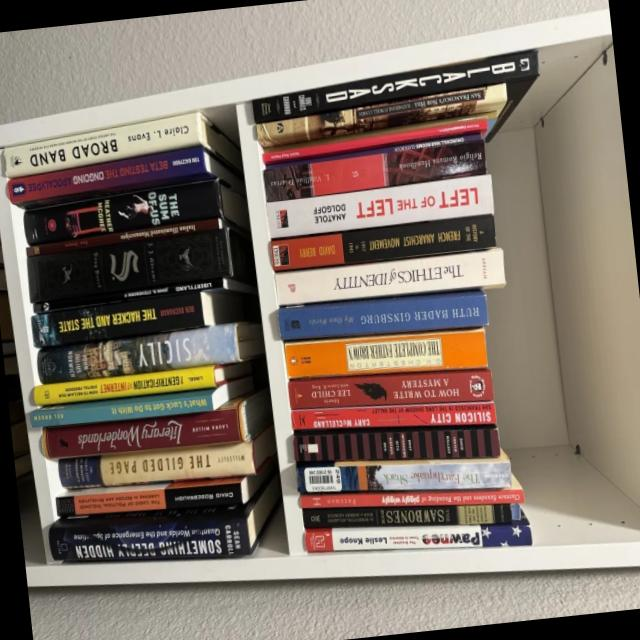book: (250, 49, 543, 157), (253, 84, 508, 147), (262, 136, 488, 203), (264, 173, 494, 238), (274, 247, 505, 311), (267, 213, 496, 272), (276, 288, 488, 342), (261, 118, 487, 165), (283, 328, 487, 377), (295, 452, 510, 494), (286, 368, 493, 410), (303, 516, 531, 553), (298, 475, 524, 511), (292, 424, 499, 463), (265, 132, 481, 168), (289, 400, 495, 431), (301, 503, 519, 528)
